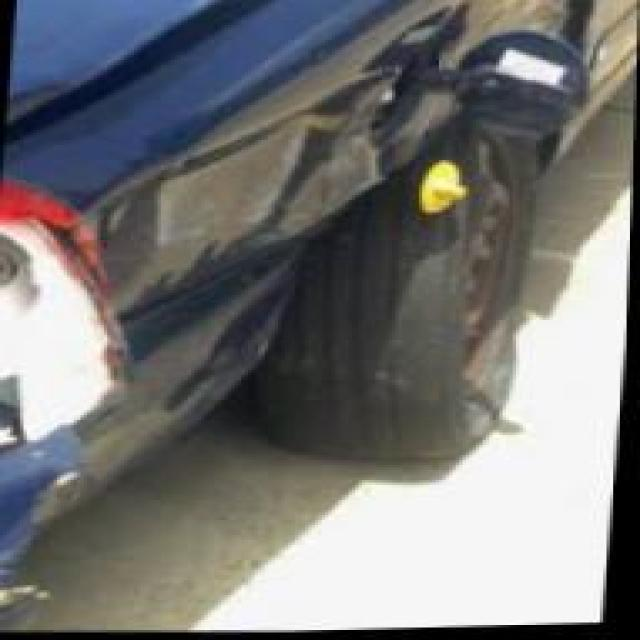Light: (0, 182, 98, 455)
